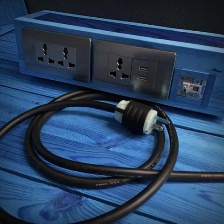three_eye_plug: (89, 35, 180, 104), (16, 22, 93, 87)
